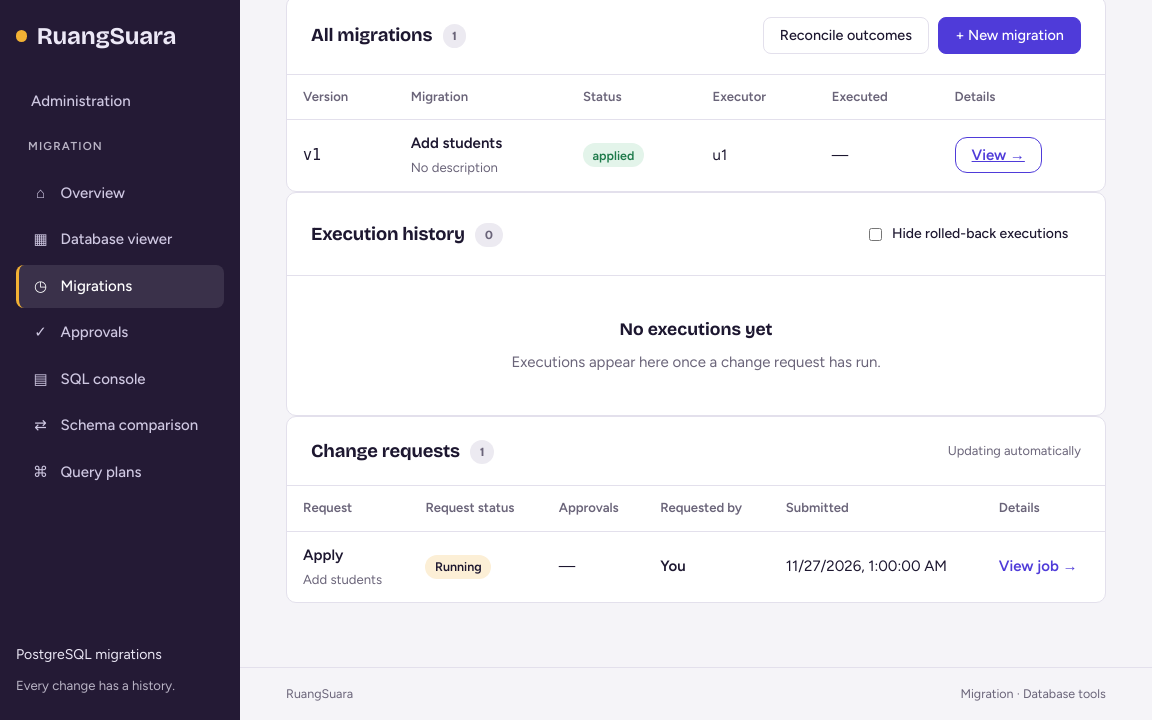
Scenario: Execution job navigation and monitoring › opens an existing job from migration history
(page scrolled)
What coordinates should you click on to do the following:
click the link "View job →"
I would click on:
 (1038, 566)
Its box is [999,557,1078,575].
(page scrolled)
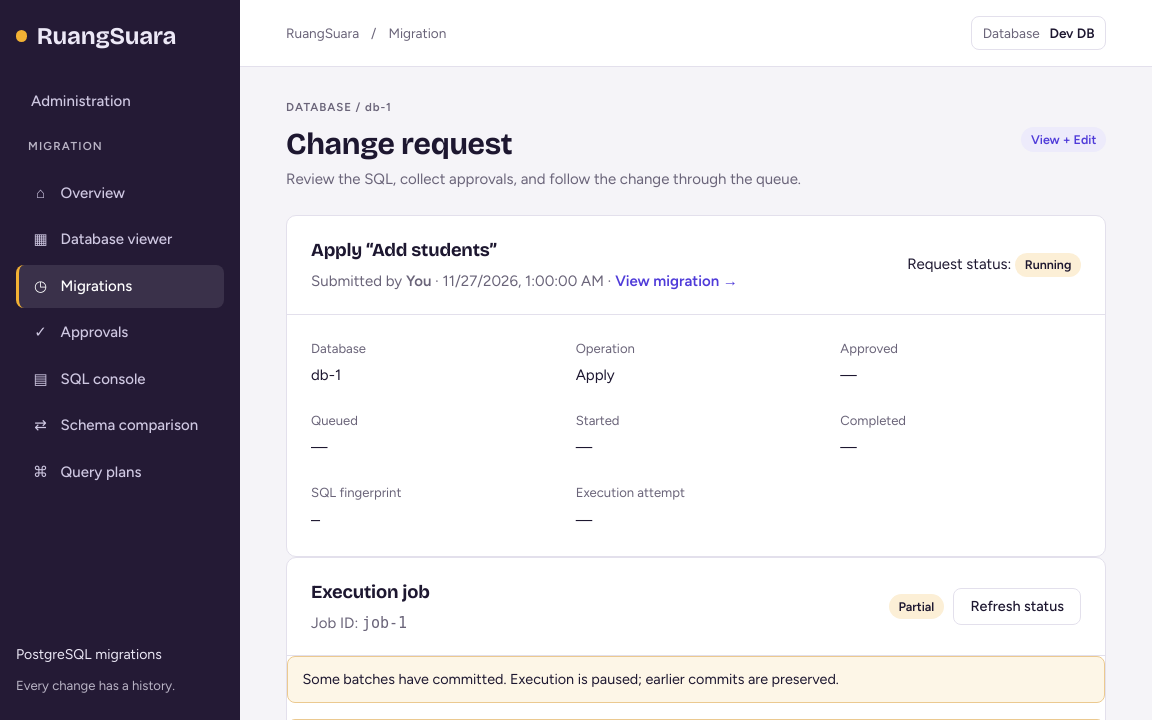
Check: the heading "Execution job" is shown, box [311,578,430,606]
Check: the text "job-1" is shown, box [362,614,407,632]
